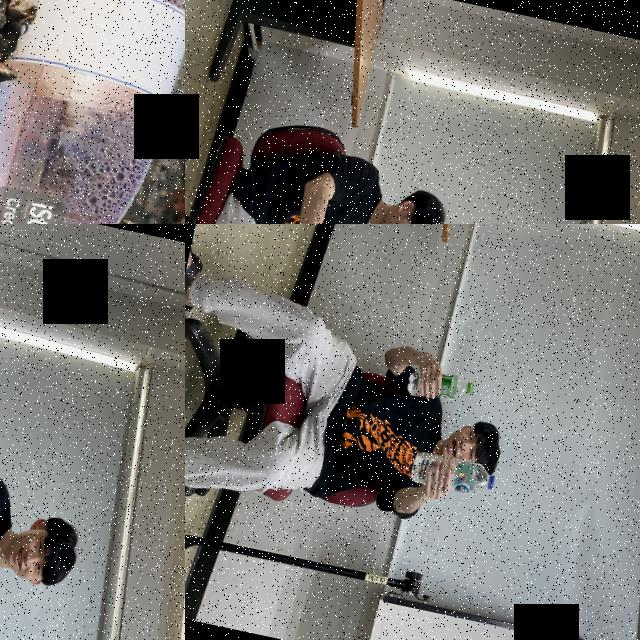bottle: (0, 0, 185, 224), (406, 448, 495, 501), (404, 363, 475, 408)
